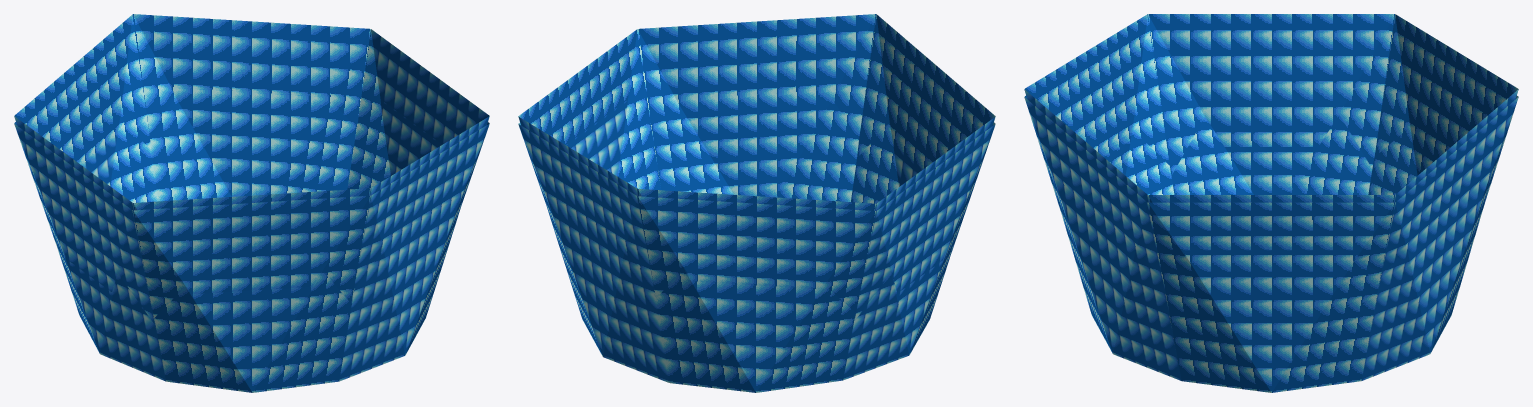
The model's file is 1352item2742r.gltf.
3 renders of one model, left to right at view 1: azimuth 30°, elevation 25°; view 2: azimuth 150°, elevation 25°; view 3: azimuth 270°, elevation 25°, orthographic. The views are drawn at different scales.
Parts seen in each view (by area): view 1: 1352item2742r; view 2: 1352item2742r; view 3: 1352item2742r.
Part boxes in pixels (bbox=[...]): 1352item2742r: bbox=[14, 14, 489, 392]; 1352item2742r: bbox=[518, 14, 995, 392]; 1352item2742r: bbox=[1024, 14, 1518, 392].
Bounding box in the file's own units: 1.22 × 0.7102 × 1.41.
1 material, 1 textured.
